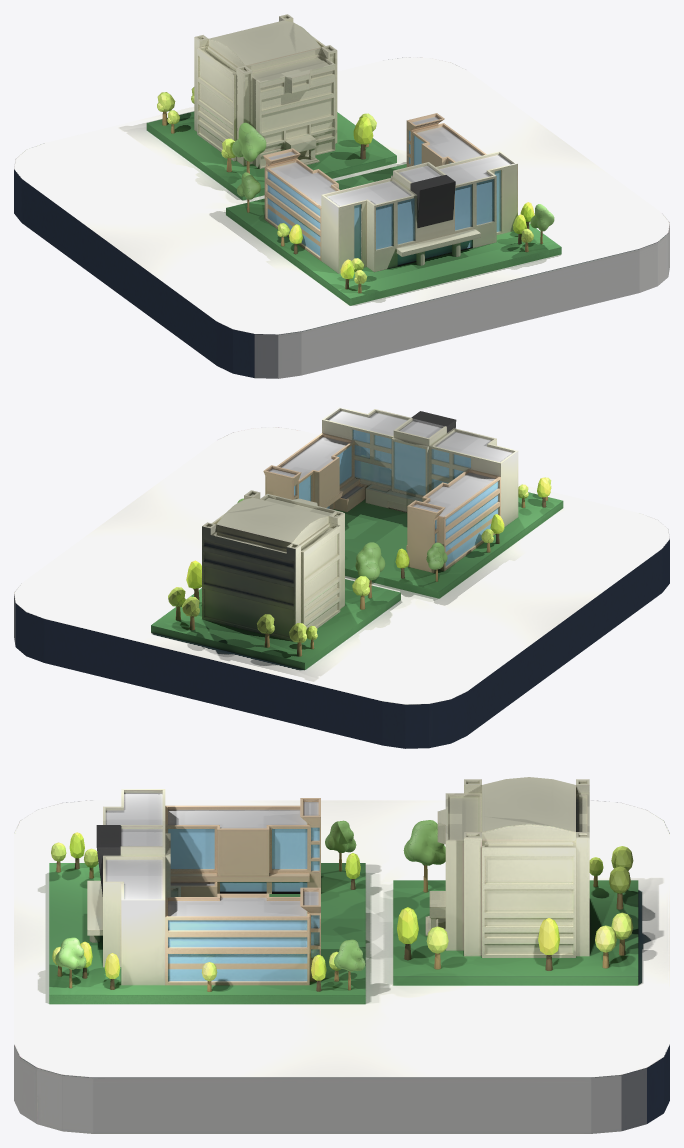
3 renders of one model, top to bottom at view 1: azimuth 30°, elevation 25°; view 2: azimuth 150°, elevation 25°; view 3: azimuth 270°, elevation 25°, orthographic. The views are drawn at different scales.
Visible parts, largest first — view 1: Cube.001; view 2: Cube.001; view 3: Cube.001.
Part boxes in pixels (bbox=[...]): Cube.001: bbox=[14, 14, 669, 378]; Cube.001: bbox=[14, 407, 669, 748]; Cube.001: bbox=[14, 777, 669, 1133].
Bounding box in the file's own units: 17 × 5.5 × 17.
13 materials, 13 textured.
